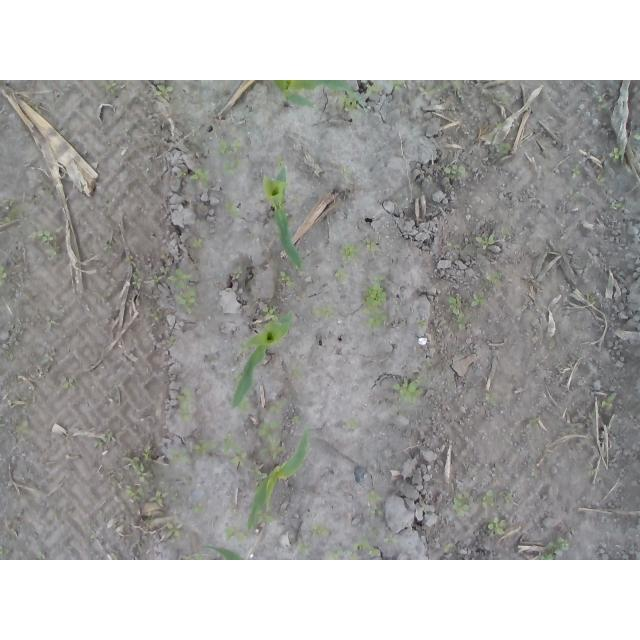Maize: (248, 428, 313, 533), (233, 309, 296, 407), (264, 165, 305, 270), (270, 81, 353, 112), (206, 542, 245, 560)
Weeds: (362, 276, 391, 335), (168, 267, 199, 314), (127, 446, 151, 502), (260, 418, 289, 459), (391, 374, 427, 406), (447, 289, 473, 332), (218, 136, 243, 175), (222, 430, 246, 467), (31, 230, 61, 255), (542, 536, 571, 561), (175, 384, 193, 424), (0, 199, 26, 225), (339, 90, 367, 112), (355, 535, 382, 557), (479, 270, 506, 291), (453, 489, 472, 518), (416, 80, 450, 96), (441, 160, 468, 180), (368, 488, 385, 518), (339, 243, 361, 266), (191, 439, 217, 458), (327, 544, 357, 560), (487, 514, 508, 536), (311, 304, 338, 321), (148, 487, 170, 506), (172, 447, 193, 466), (223, 199, 241, 221), (225, 528, 248, 545), (475, 233, 498, 250), (191, 166, 210, 186), (276, 269, 296, 288), (248, 463, 269, 481), (490, 91, 515, 106), (334, 267, 351, 289), (165, 521, 184, 540), (593, 168, 608, 191), (361, 81, 384, 96), (14, 414, 31, 434), (310, 522, 331, 538), (481, 489, 498, 508), (154, 83, 177, 97), (493, 141, 514, 156), (600, 393, 617, 410), (261, 304, 279, 320), (271, 397, 287, 415), (608, 144, 624, 162), (471, 292, 489, 308), (131, 270, 144, 290), (360, 240, 380, 253), (104, 80, 119, 96), (596, 94, 608, 113), (41, 351, 57, 365), (0, 263, 8, 289), (343, 418, 361, 429), (63, 377, 77, 391), (485, 390, 497, 406), (500, 490, 513, 504), (493, 117, 508, 129), (296, 543, 312, 554), (387, 81, 402, 92), (190, 238, 203, 250), (238, 399, 252, 410), (263, 511, 274, 525), (383, 535, 398, 545), (585, 292, 597, 304), (276, 152, 285, 168), (570, 166, 582, 178), (104, 240, 113, 256), (526, 416, 537, 429), (441, 543, 455, 553), (234, 266, 244, 280), (415, 319, 429, 329), (192, 503, 205, 513), (0, 545, 10, 557), (232, 371, 242, 383), (609, 201, 623, 209), (193, 552, 207, 560), (290, 366, 300, 377), (150, 311, 161, 321), (291, 415, 301, 425), (168, 335, 177, 345), (94, 440, 104, 449), (151, 275, 162, 283), (47, 319, 57, 327), (126, 256, 134, 265), (180, 168, 188, 176), (425, 360, 433, 368)
